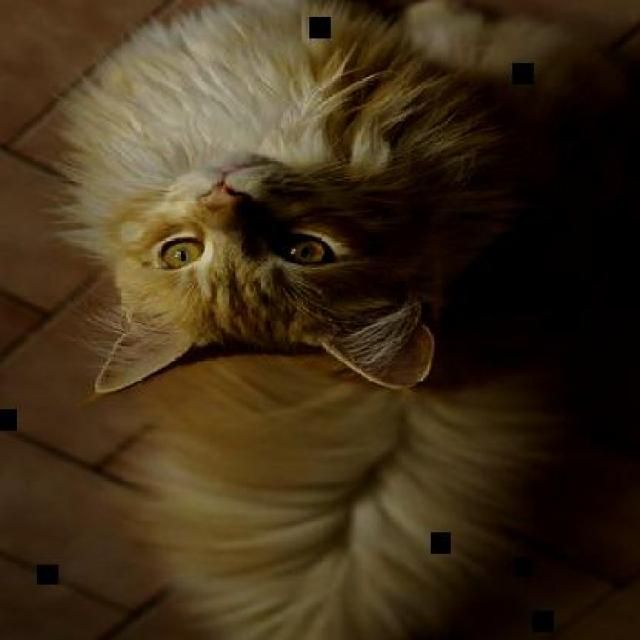cat: (68, 1, 628, 638)
